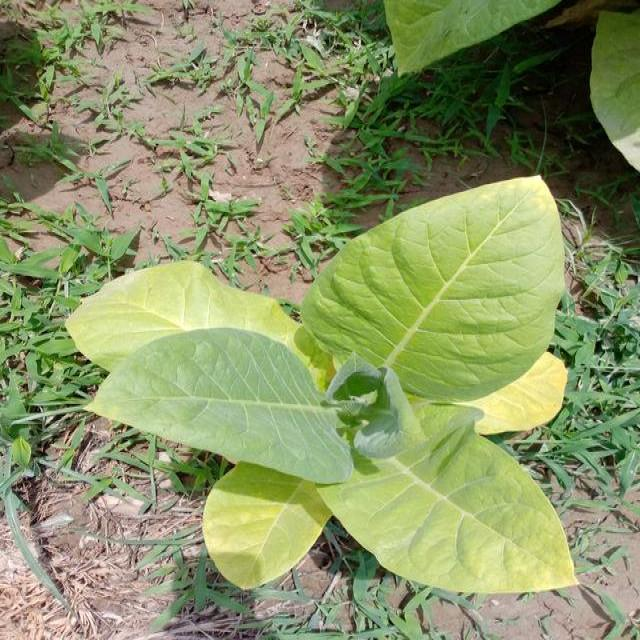crop: (72, 188, 578, 618), (389, 0, 555, 69), (598, 5, 640, 171)
